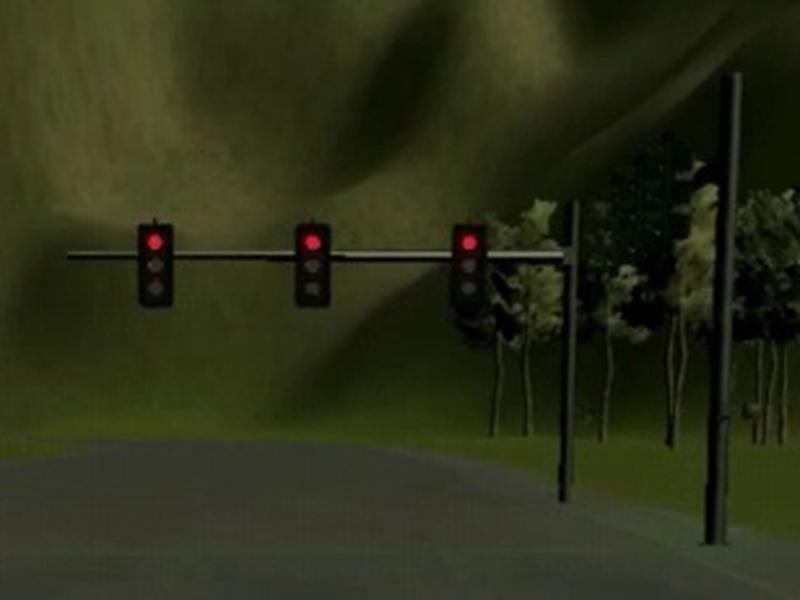Red: (138, 224, 174, 305), (454, 223, 488, 308), (297, 225, 329, 306)
